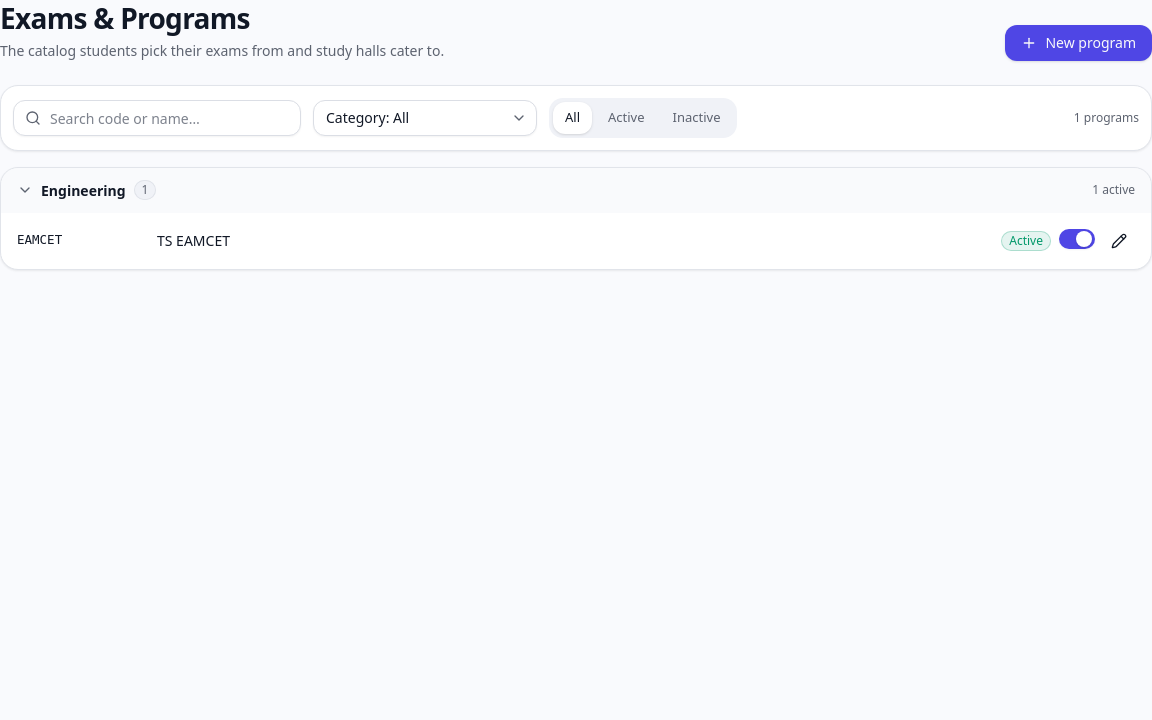
Test case: Programs catalog › validates the code pattern client-side
Expected: the text "TS EAMCET" is shown, [157,231,230,250]
Click the button "New program": click(1079, 43) [1006,25,1151,61]
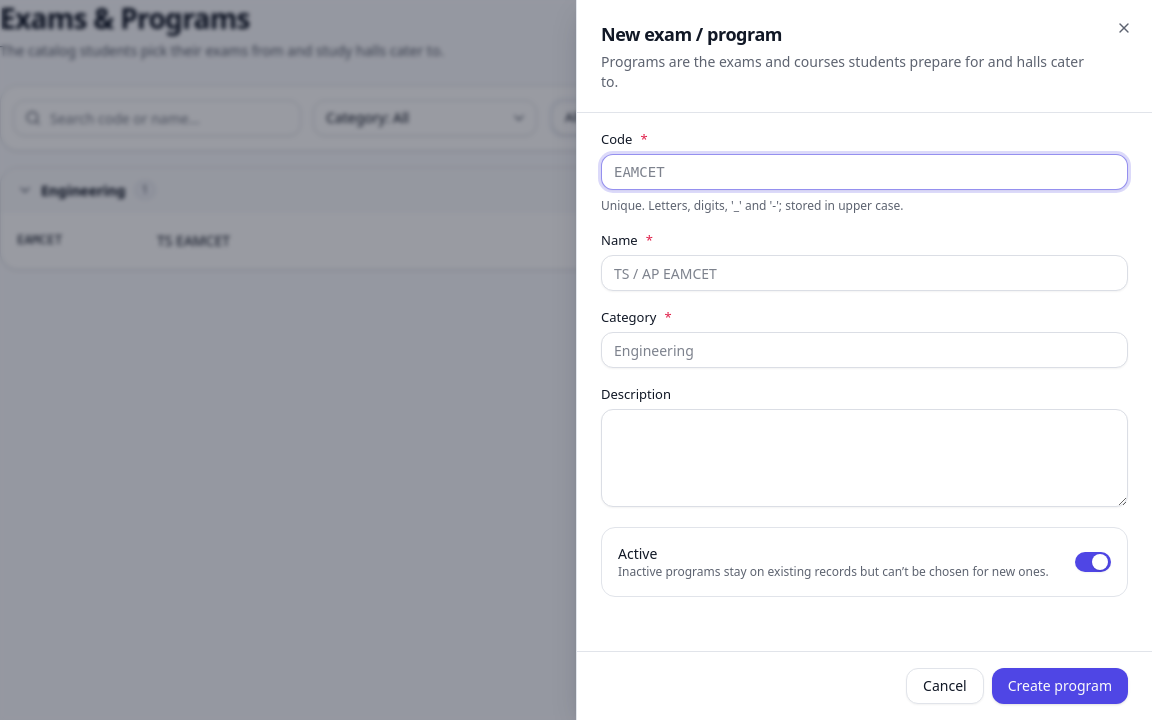
In the field labelled "Code *": (864, 172) [601,154,1128,190], type "bad code"
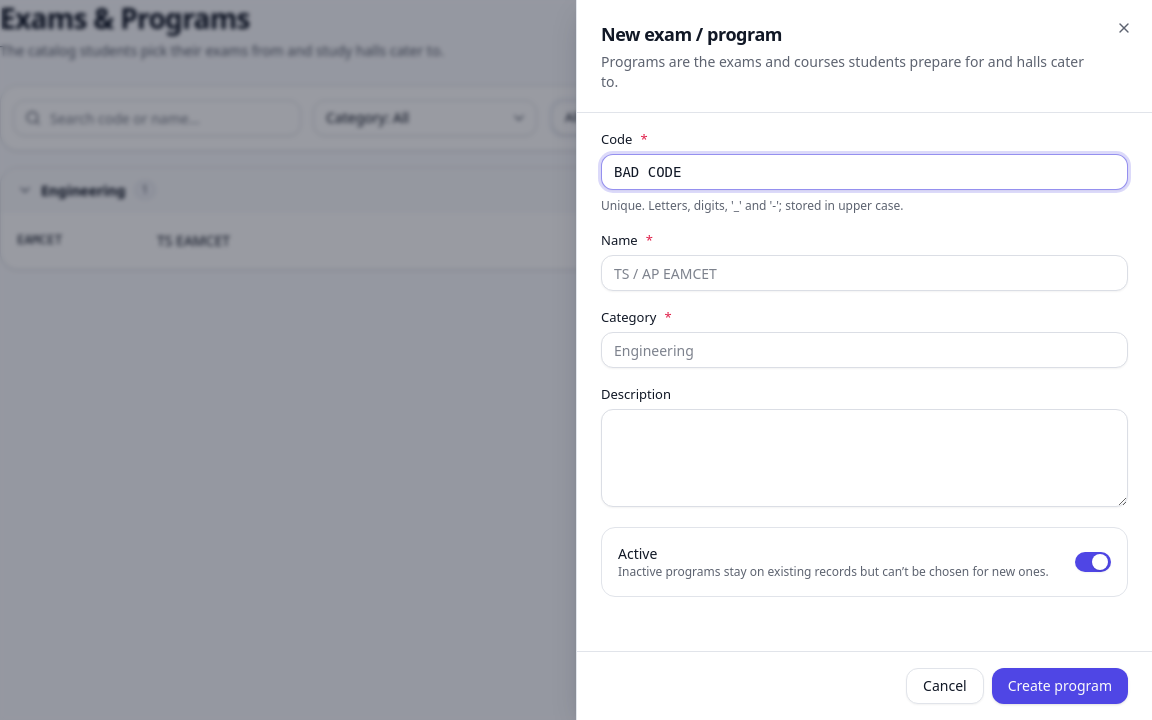
Click the button "Create program": click(1060, 686) [992,668,1128,704]
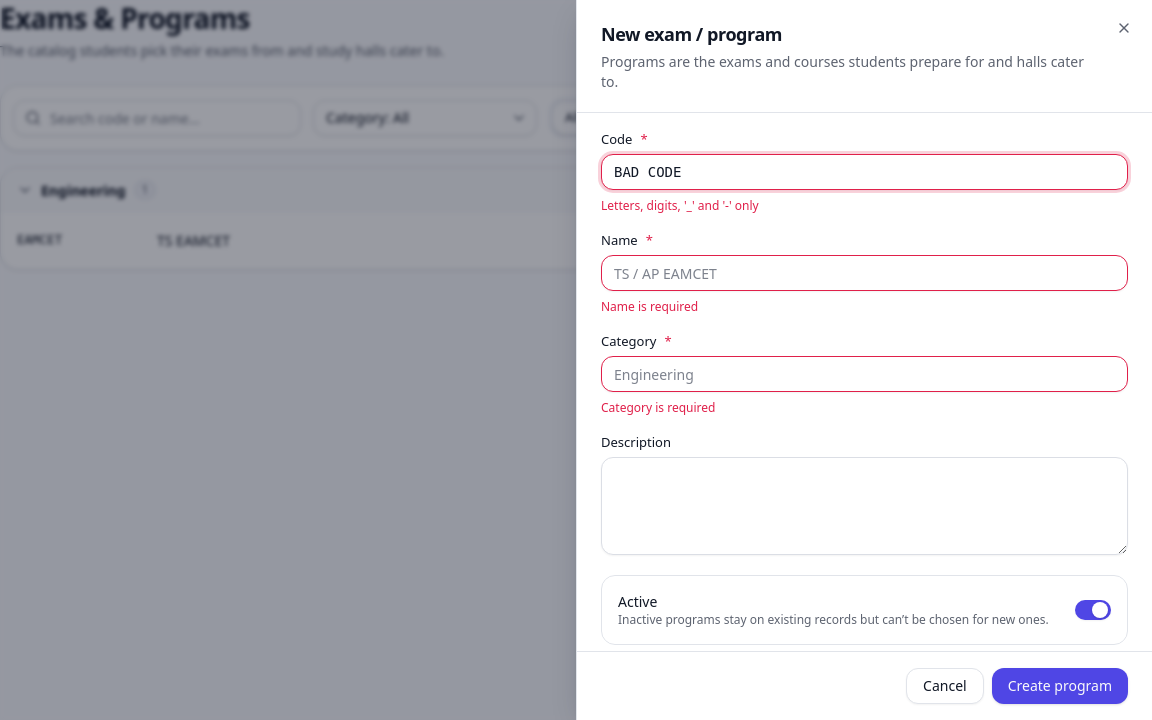
Now the text "Letters, digits, '_' and '-' only" is shown, box [601,197,759,214]
